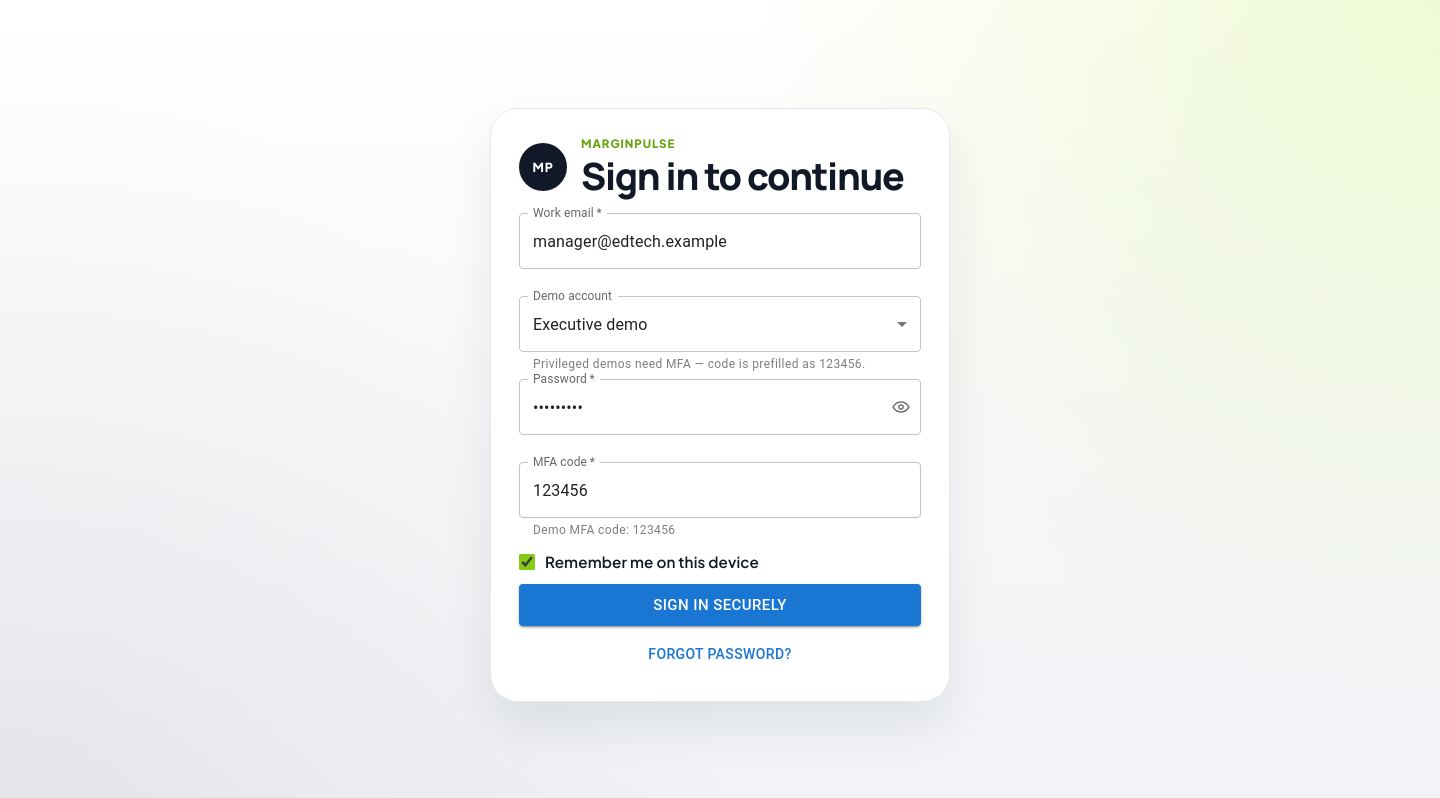
Scenario: frontend API integration › renders the /recommendations-impact workflow for an authorized user
This screenshot has width=1440, height=798.
Expected: the heading "Sign in to continue" is shown, [581, 155, 904, 197]
Click the button "Sign in securely": [720, 605] box [519, 584, 921, 626]
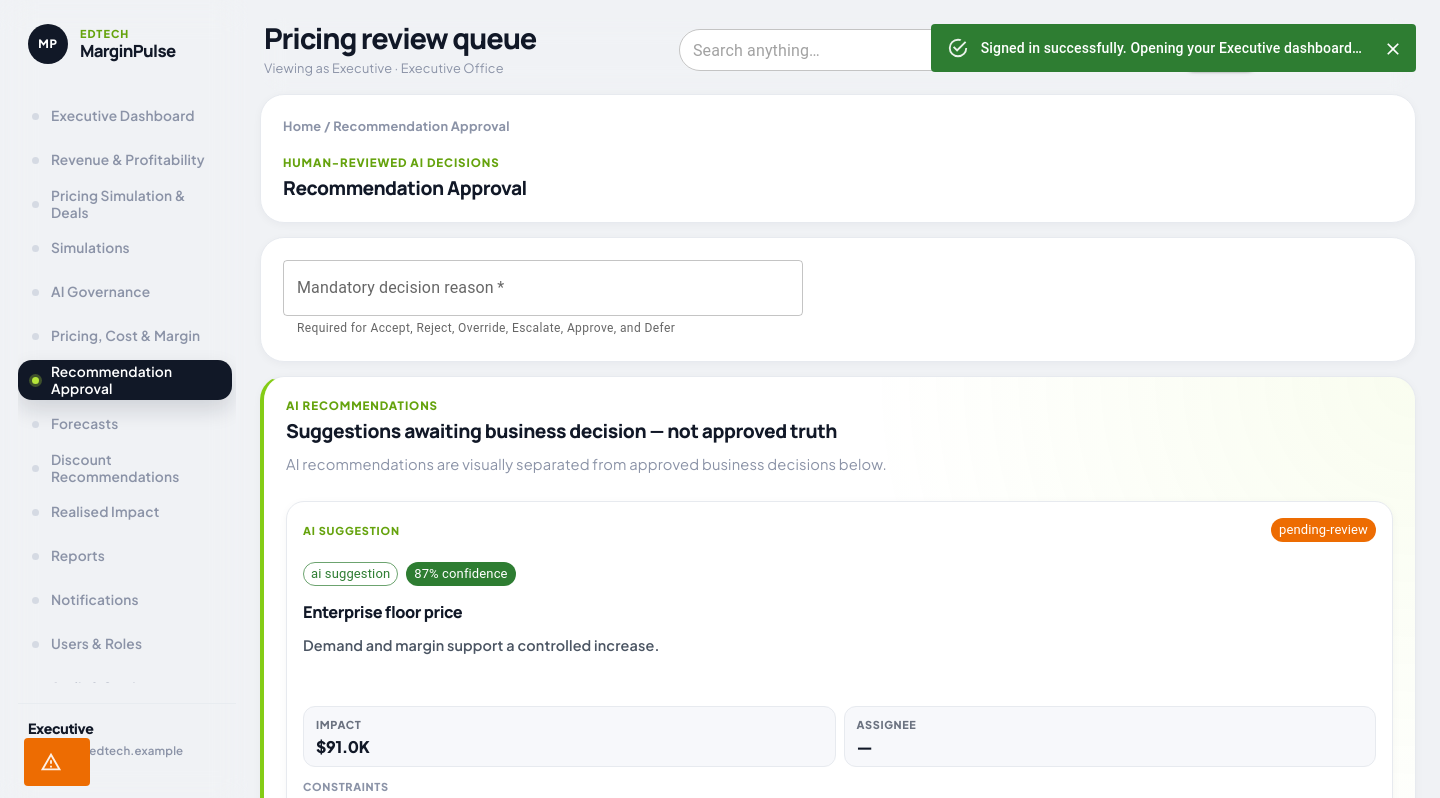
Expected: the text "Recommendation Approval" is shown, [333, 118, 510, 134]
